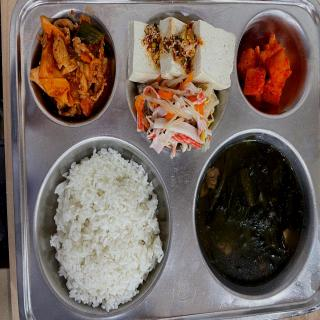Nasi: (52, 154, 164, 310)
